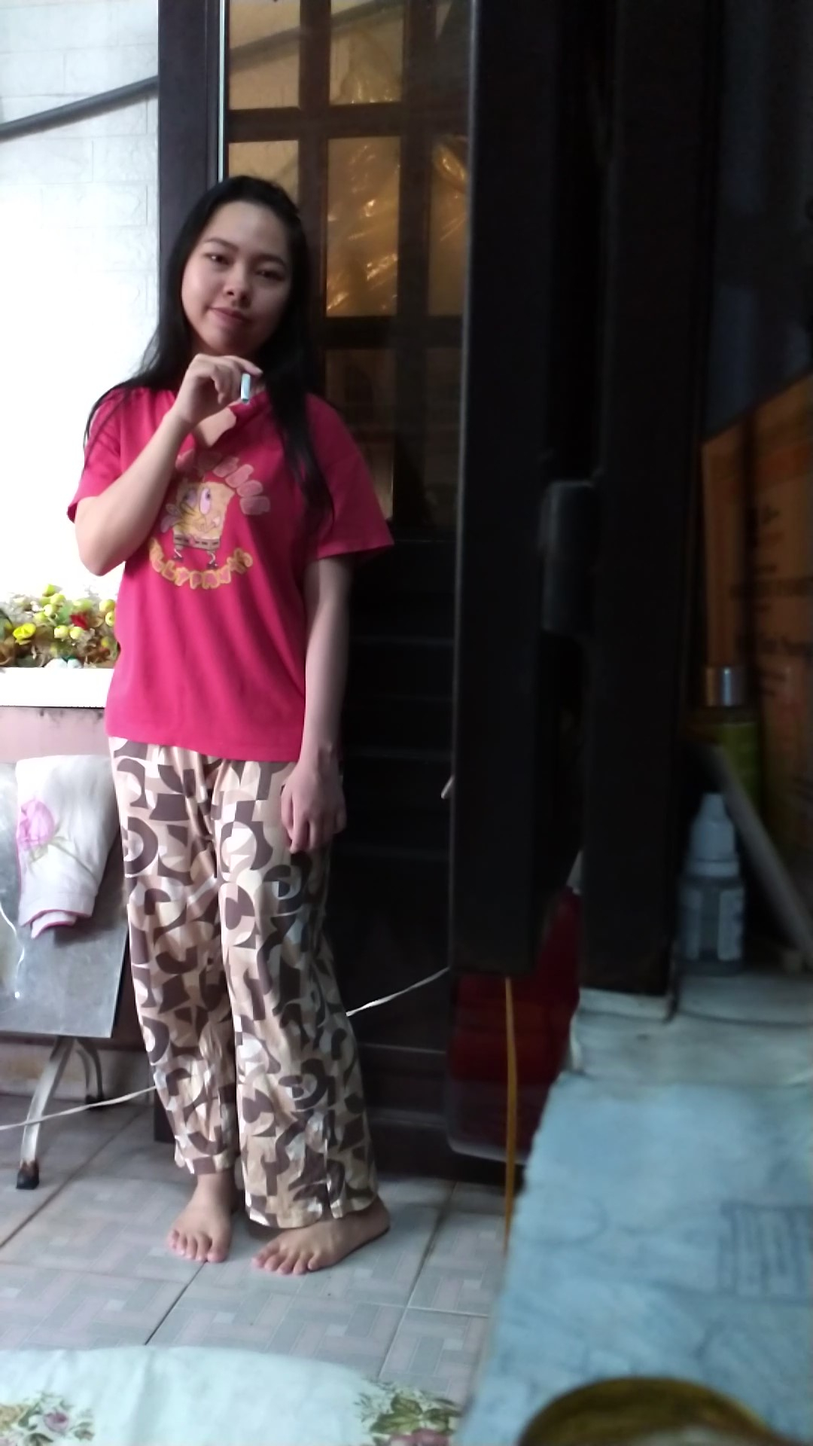cigarette: (237, 370, 257, 408)
person: (58, 127, 384, 1311)
